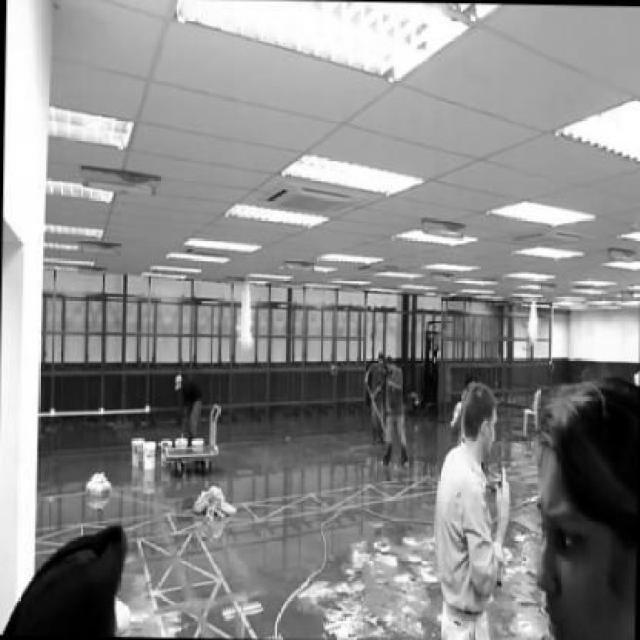fire: (226, 283, 260, 360), (522, 304, 542, 353)
